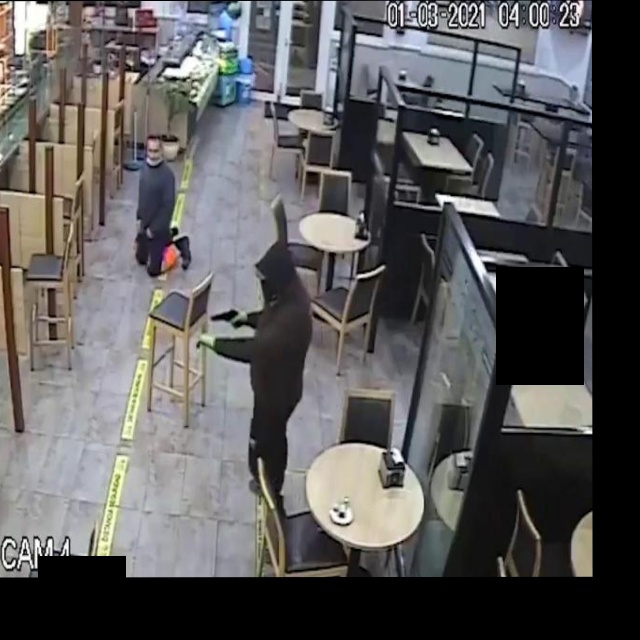gun: (203, 294, 251, 340)
